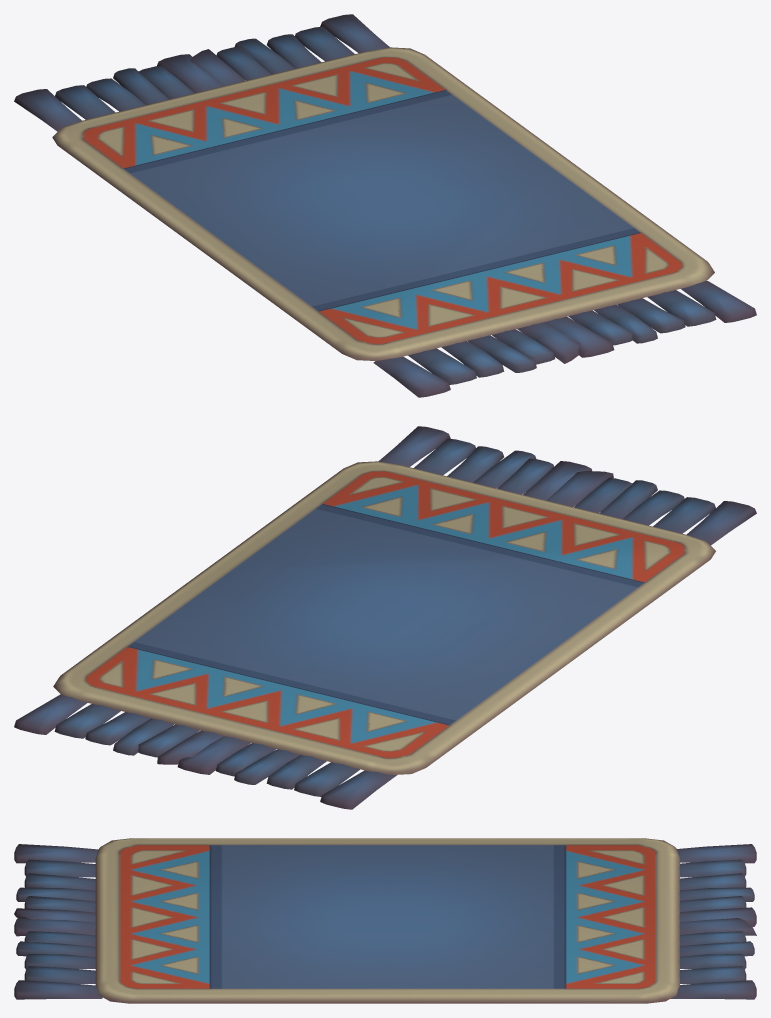
File: scenes_around_carpet01a.FBX
3 views of the same model, one above another, from view 1: azimuth 30°, elevation 25°; view 2: azimuth 150°, elevation 25°; view 3: azimuth 270°, elevation 25° (orthographic). The views are drawn at different scales.
Parts seen in each view (by area): view 1: scenes_around_carpet01a; view 2: scenes_around_carpet01a; view 3: scenes_around_carpet01a.
Part boxes in pixels (x1,y1,x2,y2): scenes_around_carpet01a: (14,14,756,397); scenes_around_carpet01a: (14,426,756,809); scenes_around_carpet01a: (14,838,756,1003).
Bounding box in the file's own units: 13077 × 262 × 25103.
